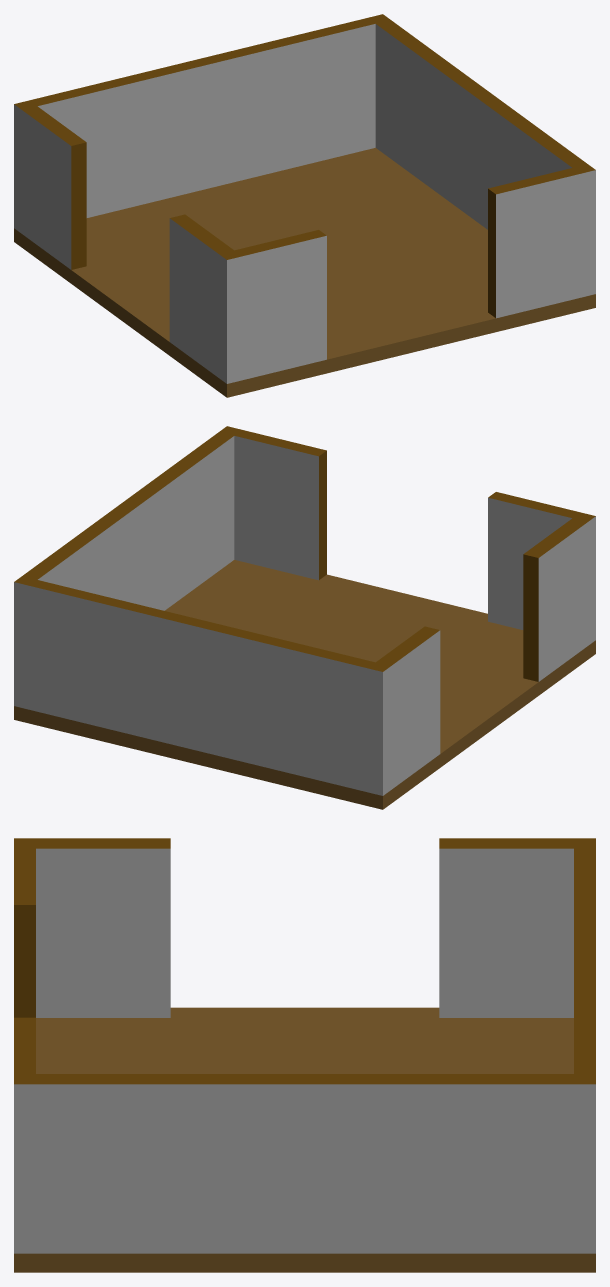
Rendered from floor_section-03.fbx.
3 renders of one model, top to bottom at view 1: azimuth 30°, elevation 25°; view 2: azimuth 150°, elevation 25°; view 3: azimuth 270°, elevation 25°, orthographic. The views are drawn at different scales.
Visible parts, largest first — view 1: Plane.004; view 2: Plane.004; view 3: Plane.004.
Boxes of the visible parts, bbox=[...] form: Plane.004: bbox=[14, 14, 595, 397]; Plane.004: bbox=[14, 426, 595, 809]; Plane.004: bbox=[14, 838, 595, 1272].
Bounding box in the file's own units: 600 × 214 × 600.
